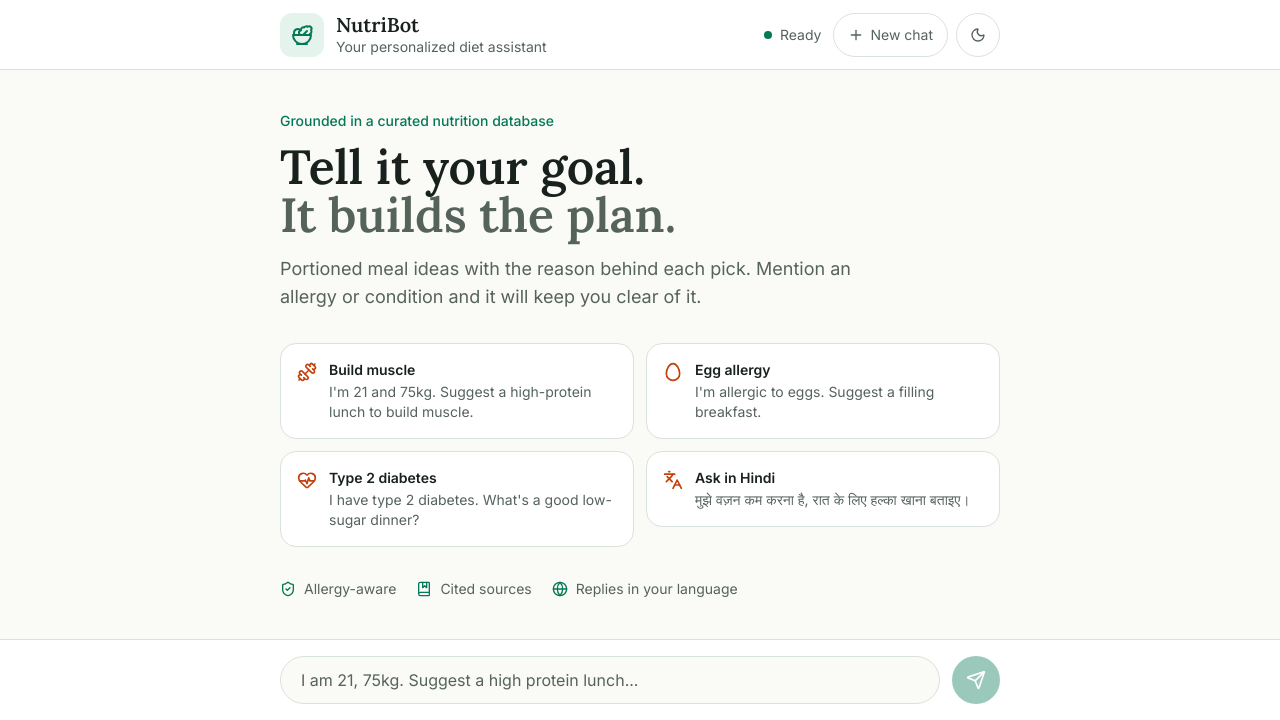
Test: typing a question and submitting sends it
Type "low carb dinner" into the field named "ask nutribot" at x=610, y=680, box [280,656,940,704]
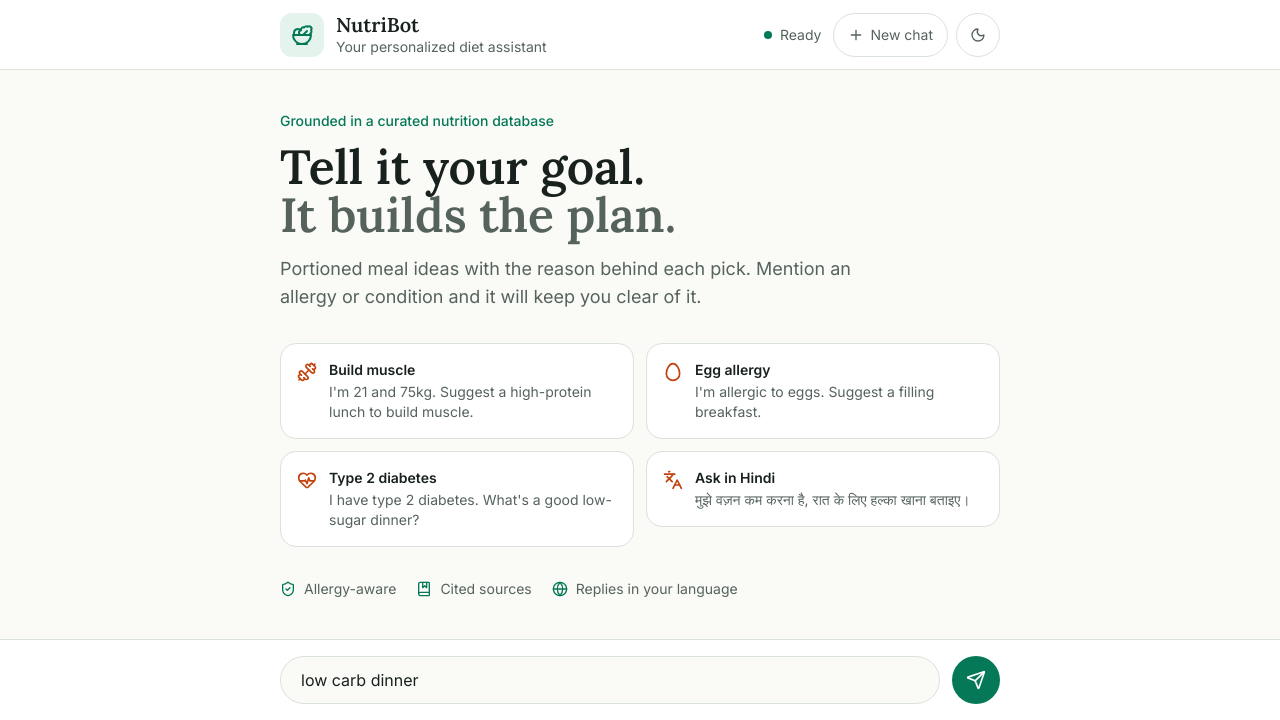
Click the button named "Send message" at x=976, y=680, box [952,656,1000,704]
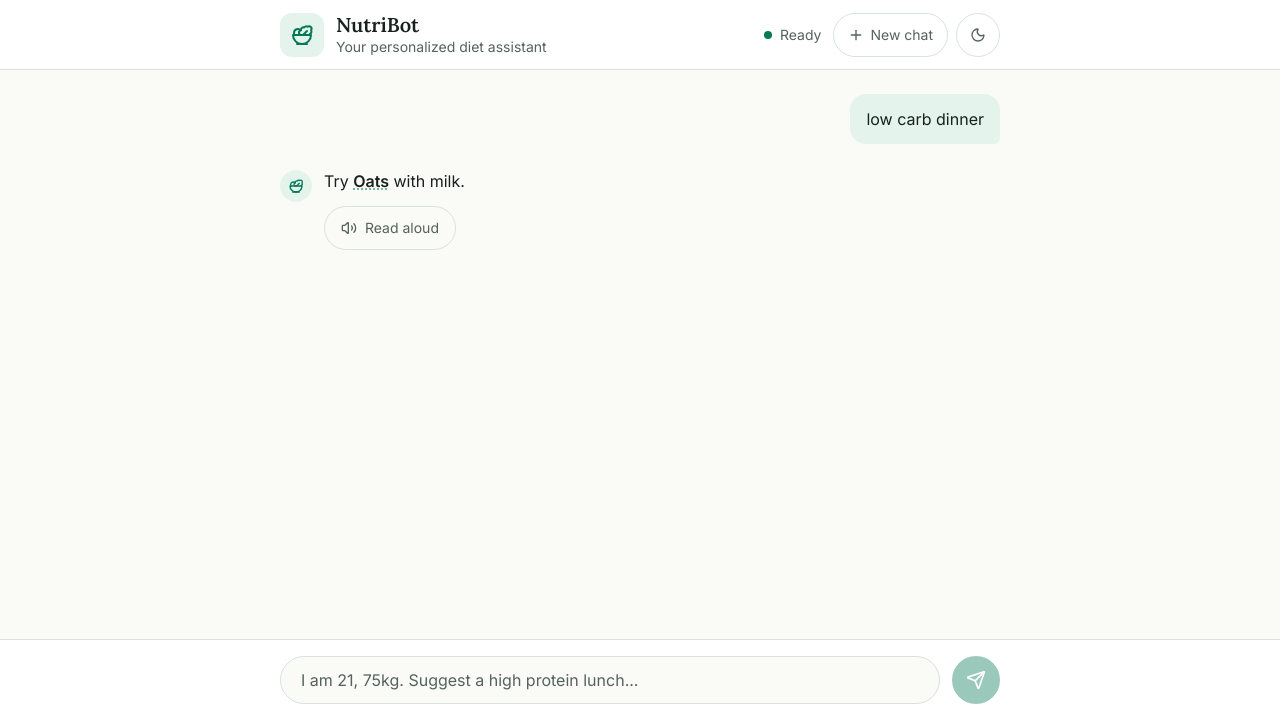
expect the button "Oats" is shown: met, box [353,168,389,194]
expect the text "low carb dinner" is shown: met, box [850,94,1000,144]
expect the field named "ask nutribot" is empty: met, box [280,656,940,704]
